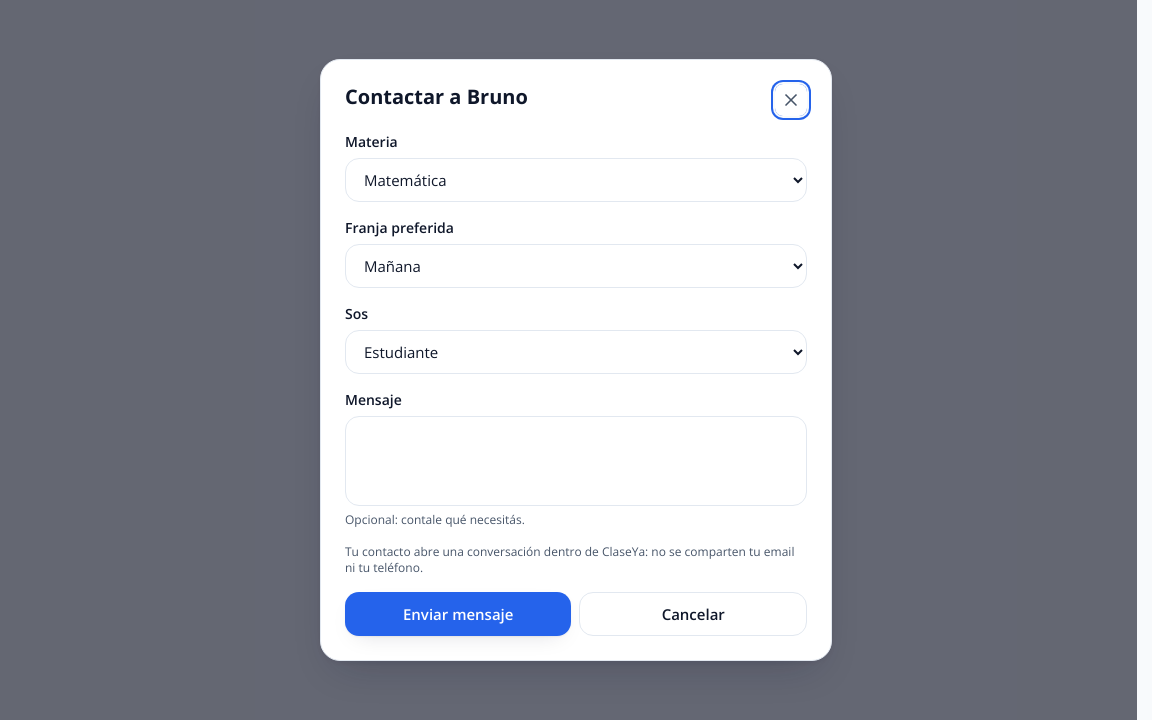
Test: ContactModal errors › explains the contact rate limit
Click the button "Enviar mensaje".
click(458, 614)  # box top-left (345, 592), bottom-right (571, 636)
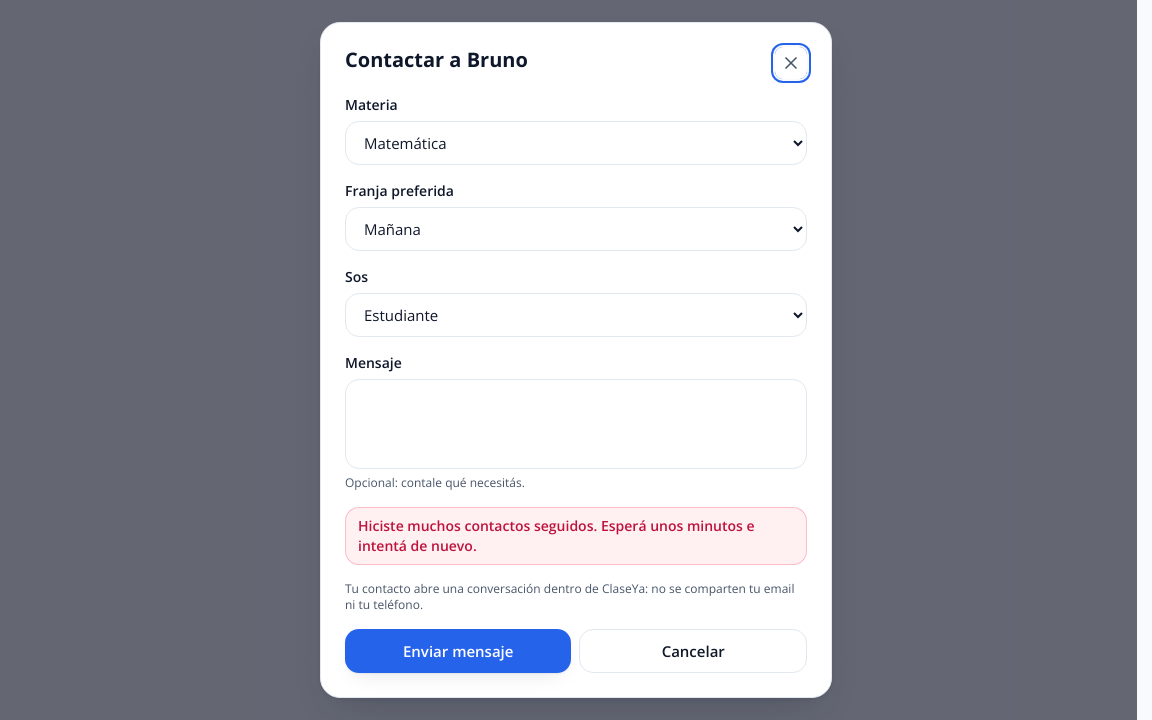
Expected: the text "Hiciste muchos contactos seguidos. Esperá unos minutos e intentá de nuevo." is shown, top-left (345, 507), bottom-right (807, 565)
